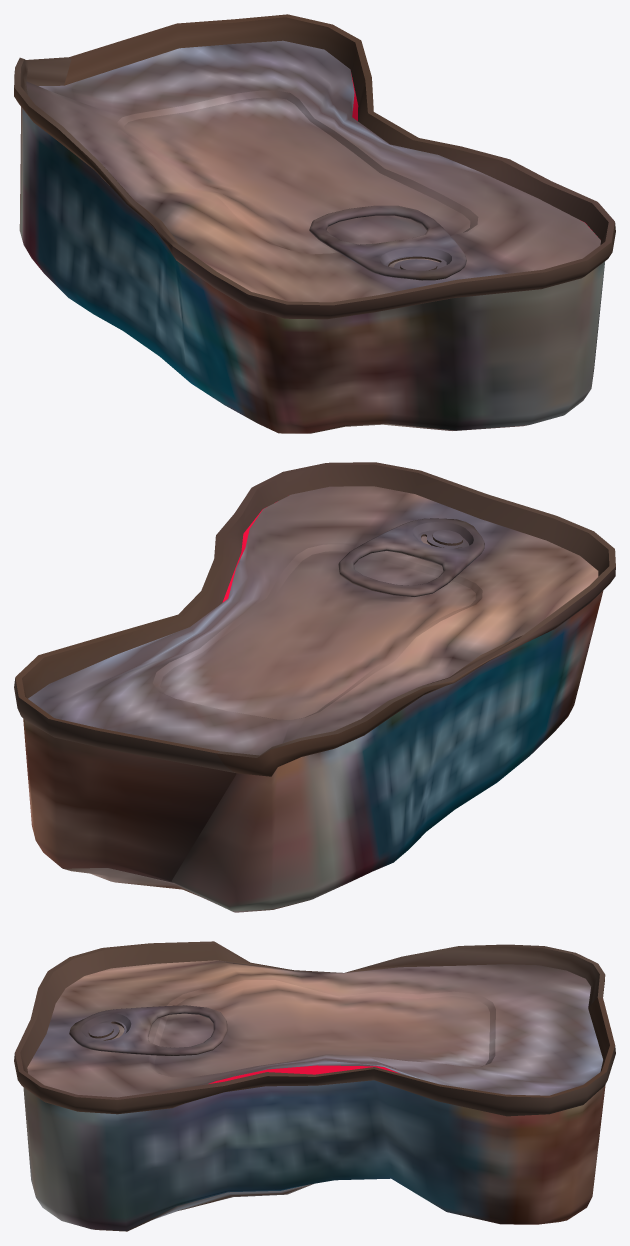
The model's file is canned3_broken.glb.
3 views of the same model, one above another, from view 1: azimuth 30°, elevation 25°; view 2: azimuth 150°, elevation 25°; view 3: azimuth 270°, elevation 25° (orthographic). The views are drawn at different scales.
Visible parts, largest first — view 1: canned_food_03; view 2: canned_food_03; view 3: canned_food_03.
Boxes of the visible parts, x1=… form: canned_food_03: x1=14, y1=14, x2=615, y2=433; canned_food_03: x1=14, y1=462, x2=615, y2=912; canned_food_03: x1=14, y1=941, x2=615, y2=1231.
Size of the model in its own units: 0.0627 by 0.0313 by 0.103.
Materials: 1 (1 with a texture image).
